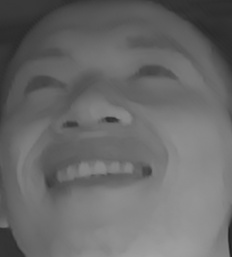eye: (132, 56, 181, 90), (23, 69, 69, 99)
mouth: (33, 142, 156, 200)
